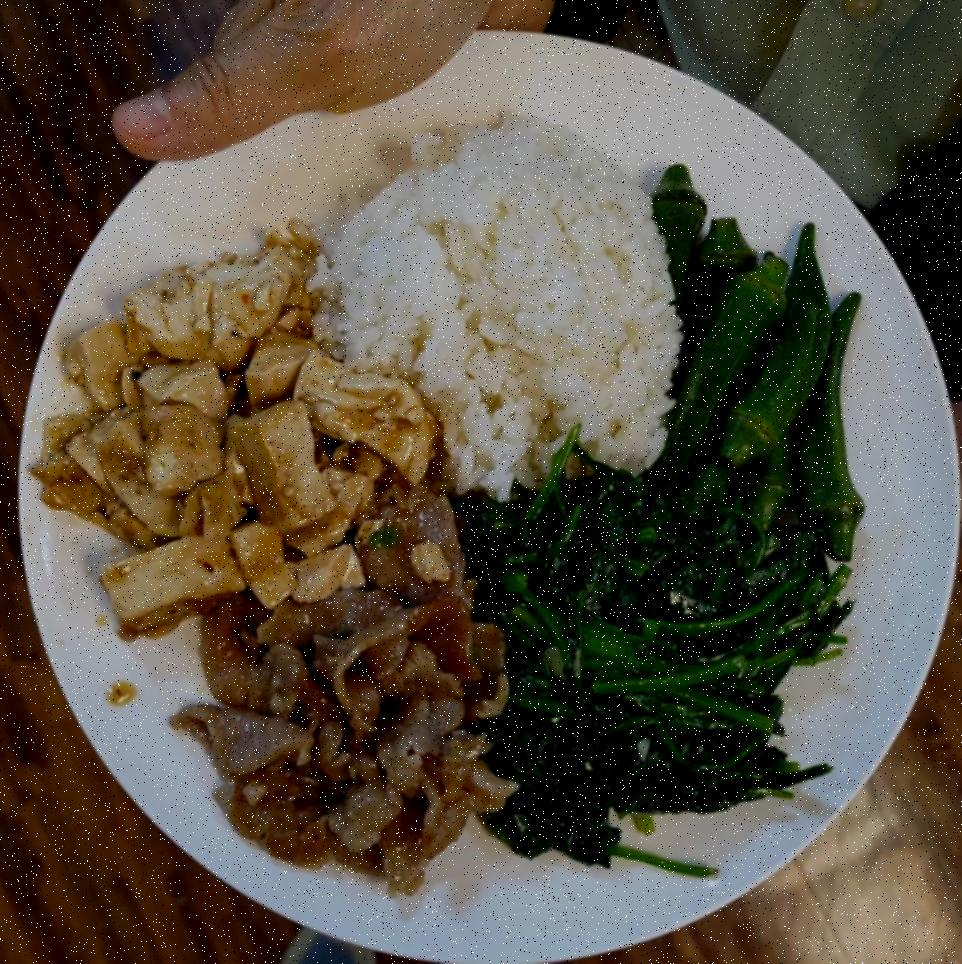big fried chicken leg: (18, 32, 962, 958)
big herbal chicken leg: (318, 109, 680, 488)
braised fish fillet: (462, 452, 846, 868), (46, 240, 436, 620), (658, 160, 867, 562)
braised pork: (192, 501, 506, 876)
